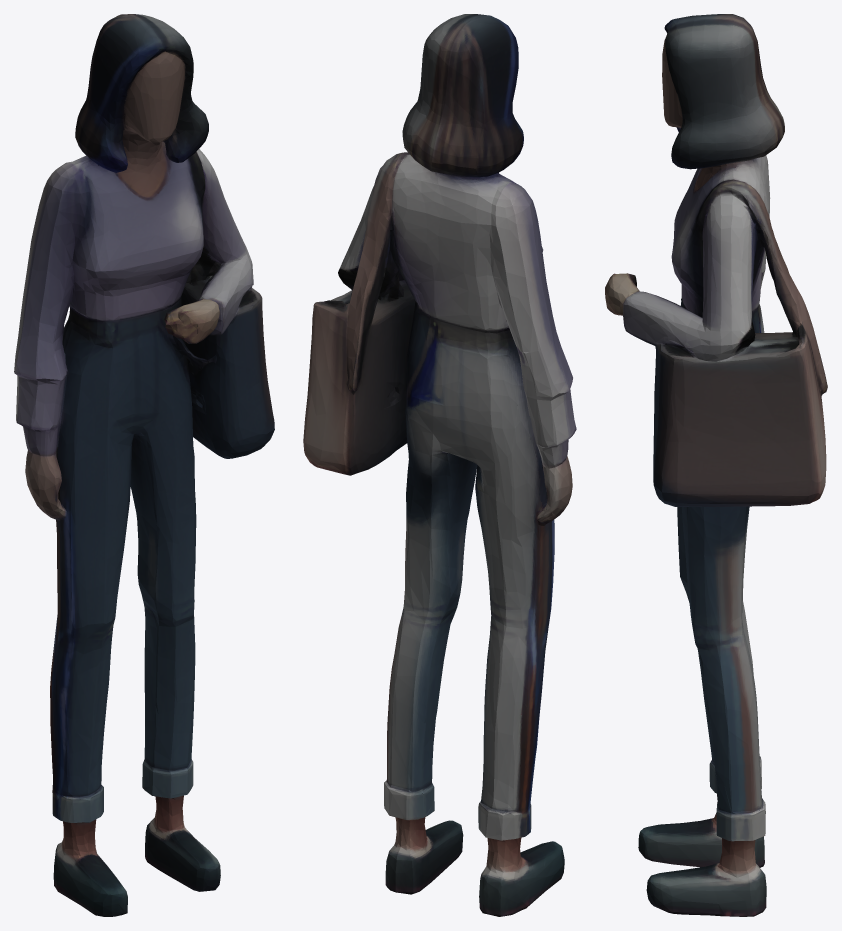
Rendered from pedestrian2.glb.
3 views of the same model, side by side, from view 1: azimuth 30°, elevation 25°; view 2: azimuth 150°, elevation 25°; view 3: azimuth 270°, elevation 25° (orthographic).
Visible parts, largest first — view 1: world; view 2: world; view 3: world.
Part boxes in pixels (<box>): world: <box>14,14,274,916</box>; world: <box>303,14,576,916</box>; world: <box>605,14,827,916</box>.
Bounding box in the file's own units: 0.2777 × 1 × 0.2322.
1 material, 1 textured.
